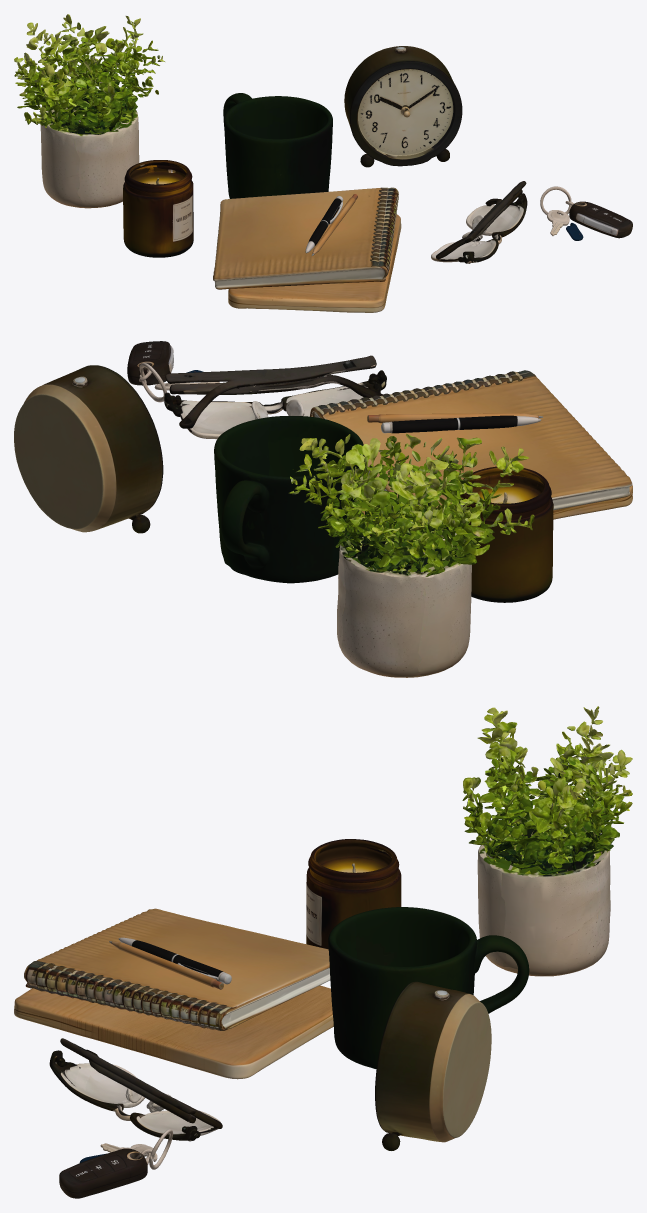
Rendered from simfoundry.glb.
The picture shows the model from 3 angles, top to bottom: view 1: azimuth 30°, elevation 25°; view 2: azimuth 150°, elevation 25°; view 3: azimuth 270°, elevation 25°; orthographic projection. The views are drawn at different scales.
Visible parts, largest first — view 1: potted_green_plant_ncxhft_link_iter_10_canonical_mesh_obj, kraft_spiral_notebook_yrylqm_link_iter_4_canonical_mesh_obj, black_alarm_clock_qelxee_link_iter_9_canonical_mesh_obj, black_mug_updyws_link_iter_5_canonical_mesh_obj, amber_candle_jar_hqbmdy_link_iter_8_canonical_mesh_obj, beige_notebook_llbqpf_link_iter_7_canonical_mesh_obj, black_eyeglasses_rbavut_link_iter_2_canonical_mesh_obj, car_keys_jbnoof_link_iter_1_canonical_mesh_obj, black_pen_irhgzr_link_iter_3_canonical_mesh_obj, wooden_pencil_fauunk_link_iter_6_canonical_mesh_obj; view 2: potted_green_plant_ncxhft_link_iter_10_canonical_mesh_obj, black_alarm_clock_qelxee_link_iter_9_canonical_mesh_obj, kraft_spiral_notebook_yrylqm_link_iter_4_canonical_mesh_obj, black_mug_updyws_link_iter_5_canonical_mesh_obj, black_eyeglasses_rbavut_link_iter_2_canonical_mesh_obj, amber_candle_jar_hqbmdy_link_iter_8_canonical_mesh_obj, car_keys_jbnoof_link_iter_1_canonical_mesh_obj, black_pen_irhgzr_link_iter_3_canonical_mesh_obj, wooden_pencil_fauunk_link_iter_6_canonical_mesh_obj, beige_notebook_llbqpf_link_iter_7_canonical_mesh_obj; view 3: potted_green_plant_ncxhft_link_iter_10_canonical_mesh_obj, kraft_spiral_notebook_yrylqm_link_iter_4_canonical_mesh_obj, black_mug_updyws_link_iter_5_canonical_mesh_obj, black_alarm_clock_qelxee_link_iter_9_canonical_mesh_obj, beige_notebook_llbqpf_link_iter_7_canonical_mesh_obj, amber_candle_jar_hqbmdy_link_iter_8_canonical_mesh_obj, black_eyeglasses_rbavut_link_iter_2_canonical_mesh_obj, car_keys_jbnoof_link_iter_1_canonical_mesh_obj, black_pen_irhgzr_link_iter_3_canonical_mesh_obj, wooden_pencil_fauunk_link_iter_6_canonical_mesh_obj.
Boxes of the visible parts, x1,y1,x2,y2 form: potted_green_plant_ncxhft_link_iter_10_canonical_mesh_obj: (14,14,164,208); kraft_spiral_notebook_yrylqm_link_iter_4_canonical_mesh_obj: (213,187,398,289); black_alarm_clock_qelxee_link_iter_9_canonical_mesh_obj: (344,46,462,167); black_mug_updyws_link_iter_5_canonical_mesh_obj: (223,93,332,198); amber_candle_jar_hqbmdy_link_iter_8_canonical_mesh_obj: (123,160,193,257); beige_notebook_llbqpf_link_iter_7_canonical_mesh_obj: (228,214,401,312); black_eyeglasses_rbavut_link_iter_2_canonical_mesh_obj: (431,181,527,263); car_keys_jbnoof_link_iter_1_canonical_mesh_obj: (540,186,632,238); black_pen_irhgzr_link_iter_3_canonical_mesh_obj: (305,196,343,253); wooden_pencil_fauunk_link_iter_6_canonical_mesh_obj: (311,194,357,255); potted_green_plant_ncxhft_link_iter_10_canonical_mesh_obj: (288,433,534,677); black_alarm_clock_qelxee_link_iter_9_canonical_mesh_obj: (14,365,163,533); kraft_spiral_notebook_yrylqm_link_iter_4_canonical_mesh_obj: (310,370,632,520); black_mug_updyws_link_iter_5_canonical_mesh_obj: (214,416,364,583); black_eyeglasses_rbavut_link_iter_2_canonical_mesh_obj: (164,355,386,439); amber_candle_jar_hqbmdy_link_iter_8_canonical_mesh_obj: (460,466,553,602); car_keys_jbnoof_link_iter_1_canonical_mesh_obj: (127,341,219,402); black_pen_irhgzr_link_iter_3_canonical_mesh_obj: (381,415,541,433); wooden_pencil_fauunk_link_iter_6_canonical_mesh_obj: (367,413,542,423); beige_notebook_llbqpf_link_iter_7_canonical_mesh_obj: (362,485,632,519); potted_green_plant_ncxhft_link_iter_10_canonical_mesh_obj: (462,706,632,976); kraft_spiral_notebook_yrylqm_link_iter_4_canonical_mesh_obj: (24,908,330,1030); black_mug_updyws_link_iter_5_canonical_mesh_obj: (328,907,529,1069); black_alarm_clock_qelxee_link_iter_9_canonical_mesh_obj: (375,981,491,1150); beige_notebook_llbqpf_link_iter_7_canonical_mesh_obj: (14,985,333,1079); amber_candle_jar_hqbmdy_link_iter_8_canonical_mesh_obj: (306,839,401,949); black_eyeglasses_rbavut_link_iter_2_canonical_mesh_obj: (49,1038,222,1141); car_keys_jbnoof_link_iter_1_canonical_mesh_obj: (59,1129,173,1198); black_pen_irhgzr_link_iter_3_canonical_mesh_obj: (118,937,231,984); wooden_pencil_fauunk_link_iter_6_canonical_mesh_obj: (109,941,223,989).
Size of what is drawn, in the model's own units: 0.7434 by 0.2653 by 0.6601.
11 materials, 11 textured.
